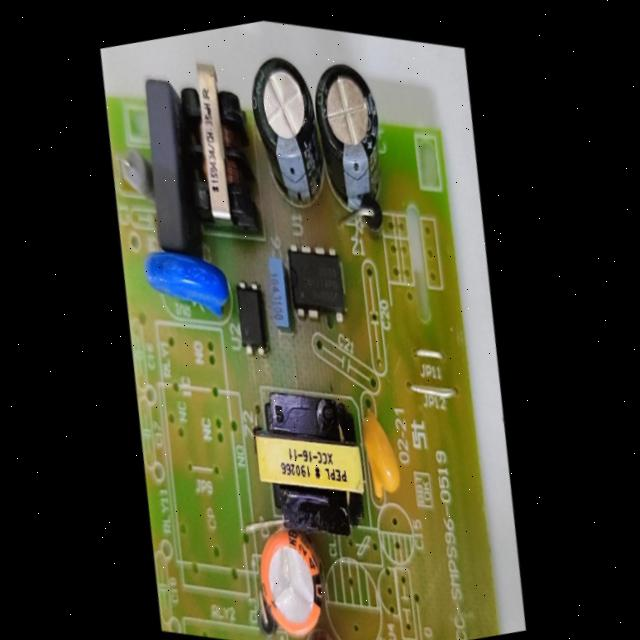Cap1: (235, 502, 350, 640)
Cap2: (291, 618, 347, 640)
Cap3: (225, 32, 349, 227)
Cap4: (293, 40, 411, 238)
MOSFET: (274, 221, 363, 343)
Mov: (130, 224, 246, 345)
Resistor: (108, 133, 163, 208)
Transformer: (226, 353, 393, 567), (157, 41, 276, 244)
